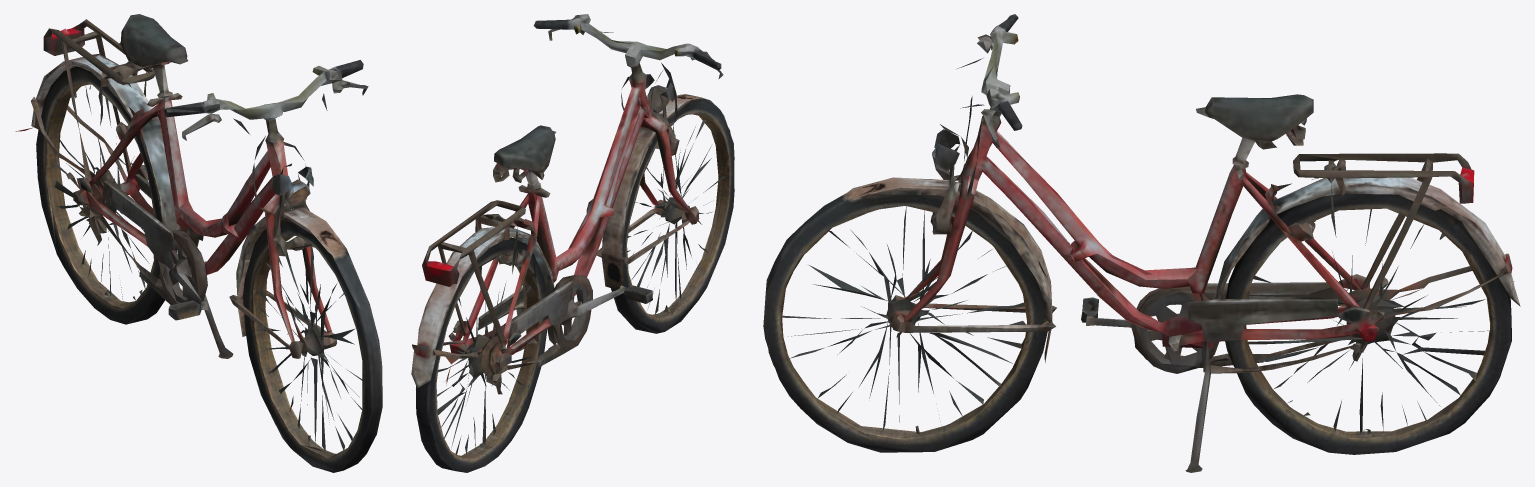
File: p7-bicycle.glb
The picture shows the model from 3 angles, left to right: view 1: azimuth 30°, elevation 25°; view 2: azimuth 150°, elevation 25°; view 3: azimuth 270°, elevation 25°; orthographic projection. The views are drawn at different scales.
Parts seen in each view (by area): view 1: p7-bicycle; view 2: p7-bicycle; view 3: p7-bicycle.
Boxes of the visible parts, left/top/right/bottom form: p7-bicycle: left=15, top=14, right=382, bottom=472; p7-bicycle: left=411, top=14, right=734, bottom=472; p7-bicycle: left=763, top=14, right=1520, bottom=472.
Size of the model in its own units: 0.6 by 1 by 1.75.
1 material, 1 textured.
